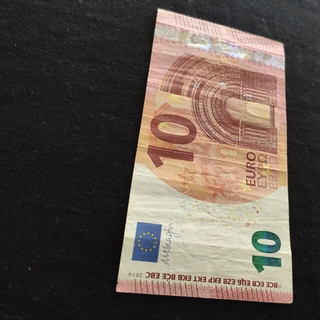10EUROFront: (115, 7, 293, 305)
